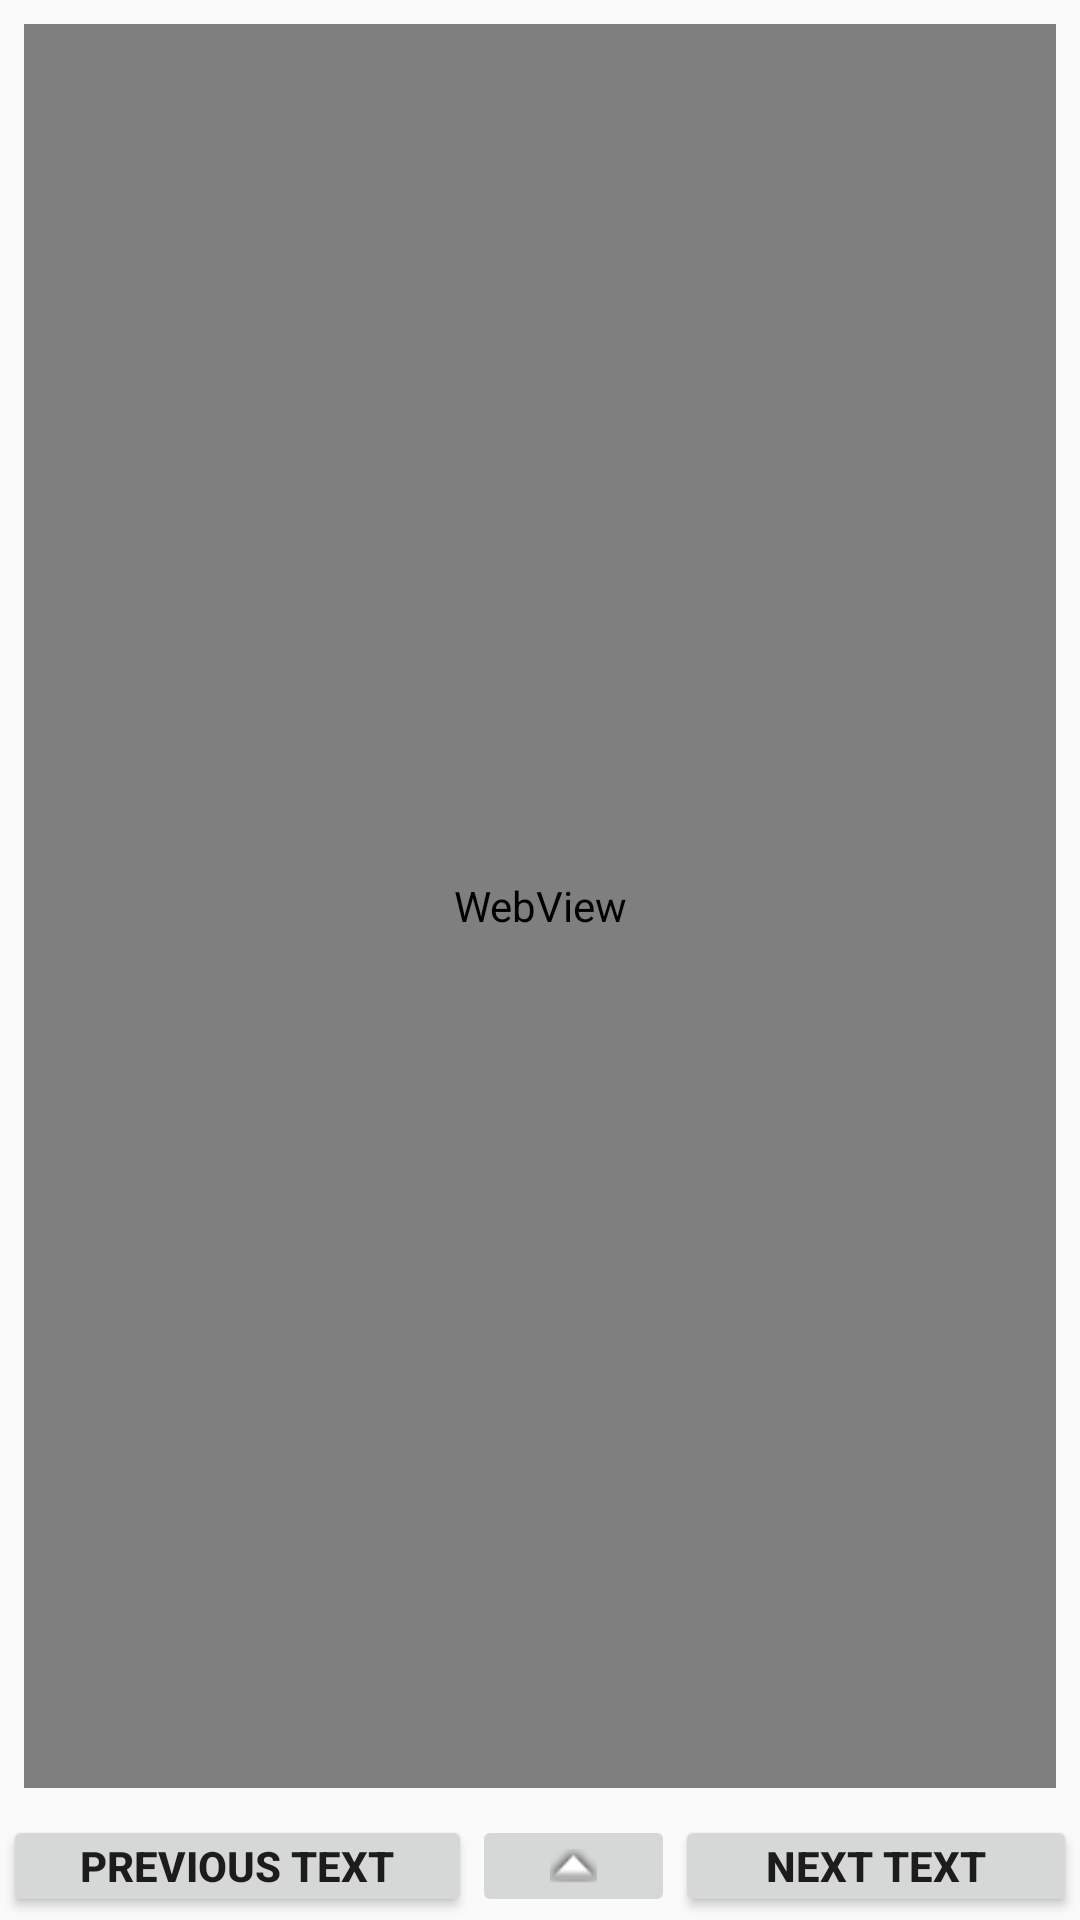

Named icons in this screenshot (1080w x 1920h) and their centers, point (x, y):
arrow up float: point (573, 1866)
